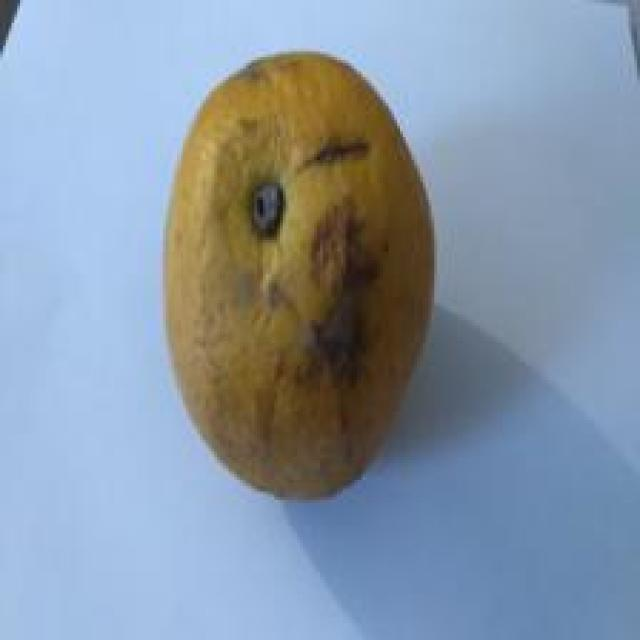overripe: (159, 46, 439, 504)
